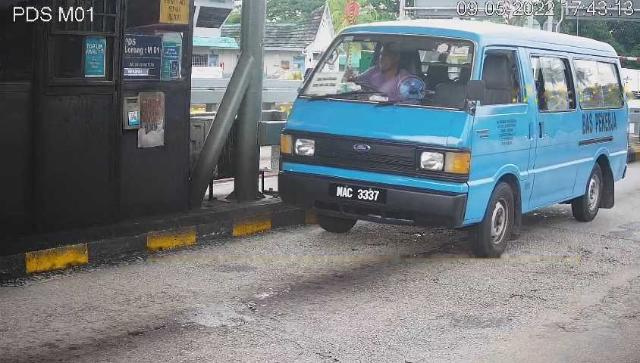License_Plate: (328, 183, 389, 209)
van: (279, 20, 629, 258)
